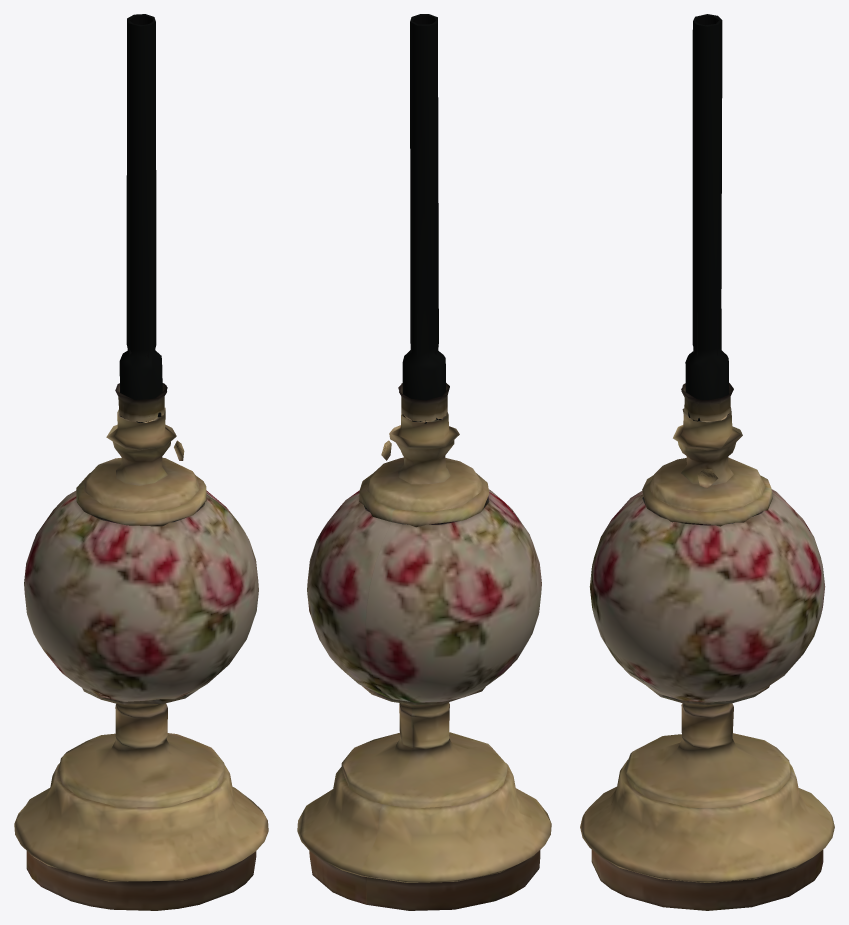
File: vintage_oil_lamp.glb
The picture shows the model from 3 angles, left to right: view 1: azimuth 30°, elevation 25°; view 2: azimuth 150°, elevation 25°; view 3: azimuth 270°, elevation 25°; orthographic projection.
Visible parts, largest first — view 1: vintage_oil_lamp, vintage_oil_lamp_glass; view 2: vintage_oil_lamp, vintage_oil_lamp_glass; view 3: vintage_oil_lamp, vintage_oil_lamp_glass.
Part boxes in pixels (x1,y1,x2,y2): vintage_oil_lamp: [14, 407, 268, 910]; vintage_oil_lamp_glass: [115, 14, 167, 422]; vintage_oil_lamp: [297, 412, 551, 910]; vintage_oil_lamp_glass: [398, 14, 449, 423]; vintage_oil_lamp: [580, 407, 834, 910]; vintage_oil_lamp_glass: [681, 14, 733, 421].
Bounding box in the file's own units: 0.22 × 0.8016 × 0.22.
3 materials, 3 textured.
